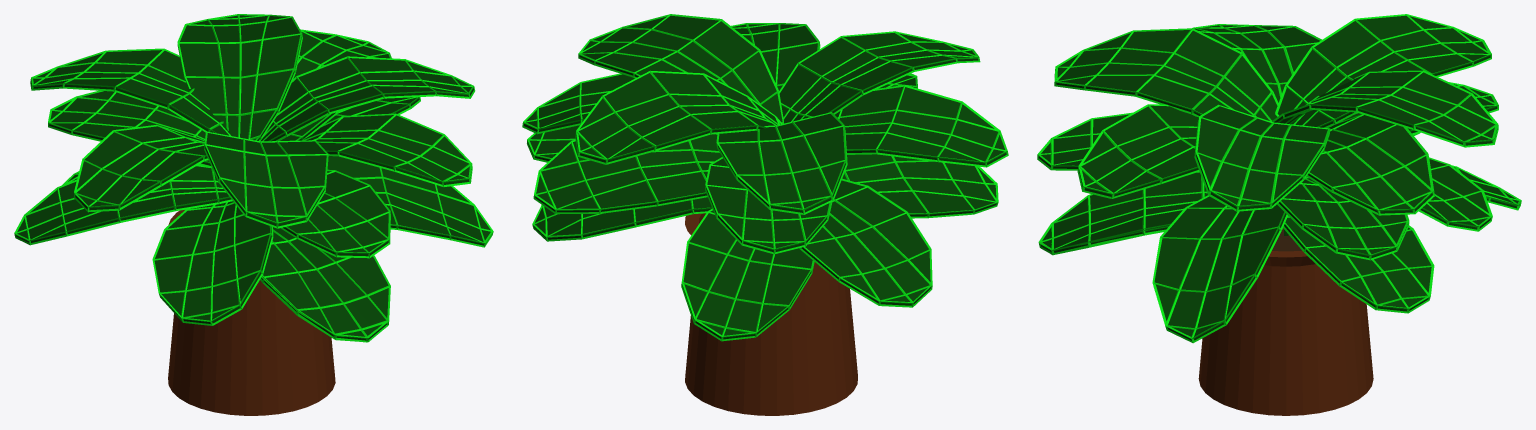
The model's file is plant.fbx.
The picture shows the model from 3 angles, left to right: view 1: azimuth 30°, elevation 25°; view 2: azimuth 150°, elevation 25°; view 3: azimuth 270°, elevation 25°; orthographic projection. The views are drawn at different scales.
Visible parts, largest first — view 1: Circle.001, Circle.002, Cylinder; view 2: Circle.001, Circle.002, Cylinder; view 3: Circle.001, Circle.002, Cylinder.
Boxes of the visible parts, bbox=[...] form: Circle.001: bbox=[16, 15, 491, 340]; Circle.002: bbox=[14, 14, 493, 342]; Cylinder: bbox=[168, 210, 335, 415]; Circle.001: bbox=[523, 15, 1006, 339]; Circle.002: bbox=[522, 14, 1008, 341]; Cylinder: bbox=[685, 213, 857, 415]; Circle.001: bbox=[1038, 15, 1519, 340]; Circle.002: bbox=[1037, 14, 1521, 343]; Cylinder: bbox=[1198, 228, 1373, 415].
Bounding box in the file's own units: 5.45 × 3.97 × 5.54.
